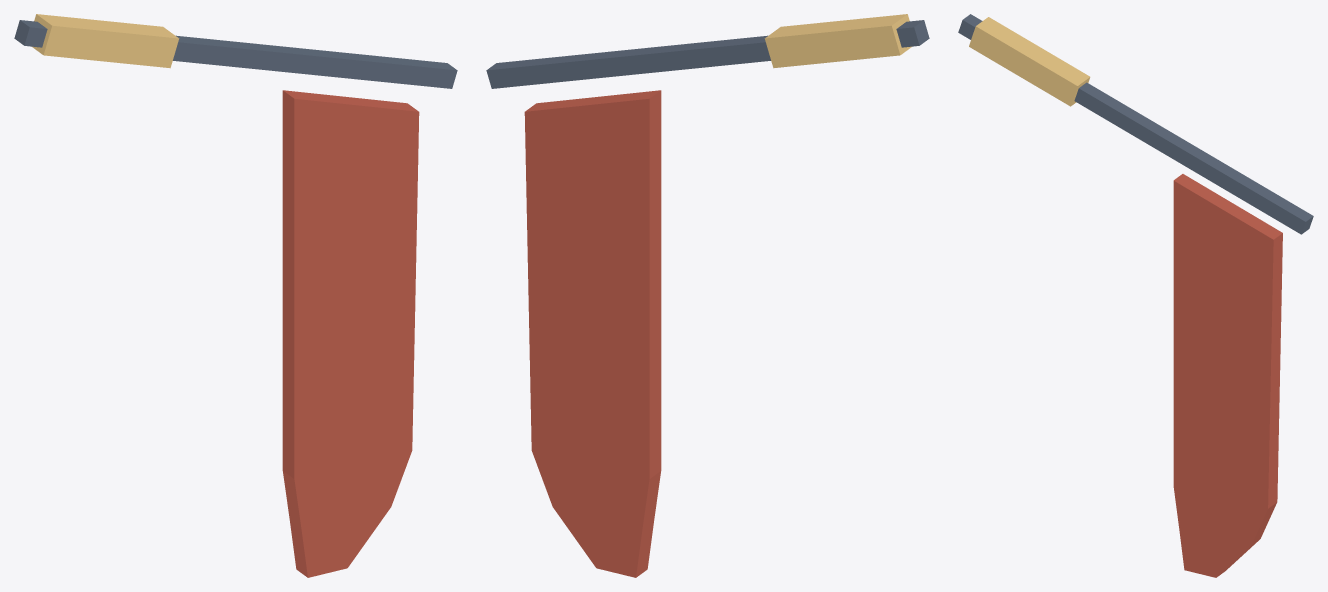
File: tiller.glb
The picture shows the model from 3 angles, left to right: view 1: azimuth 30°, elevation 25°; view 2: azimuth 150°, elevation 25°; view 3: azimuth 330°, elevation 25°; orthographic projection. The views are drawn at different scales.
Parts seen in each view (by area): view 1: Cube, Cube.002, Cube.046; view 2: Cube, Cube.002, Cube.046; view 3: Cube, Cube.002, Cube.046.
Boxes of the visible parts, left/top/right/bottom form: Cube: left=282, top=90, right=419, bottom=577; Cube.002: left=14, top=20, right=457, bottom=88; Cube.046: left=32, top=14, right=179, bottom=68; Cube: left=524, top=90, right=661, bottom=577; Cube.002: left=486, top=20, right=929, bottom=88; Cube.046: left=764, top=14, right=911, bottom=68; Cube: left=1173, top=174, right=1282, bottom=577; Cube.002: left=958, top=14, right=1313, bottom=234; Cube.046: left=969, top=17, right=1090, bottom=106.
Bounding box in the file's own units: 0.2657 × 0.3621 × 0.017.
